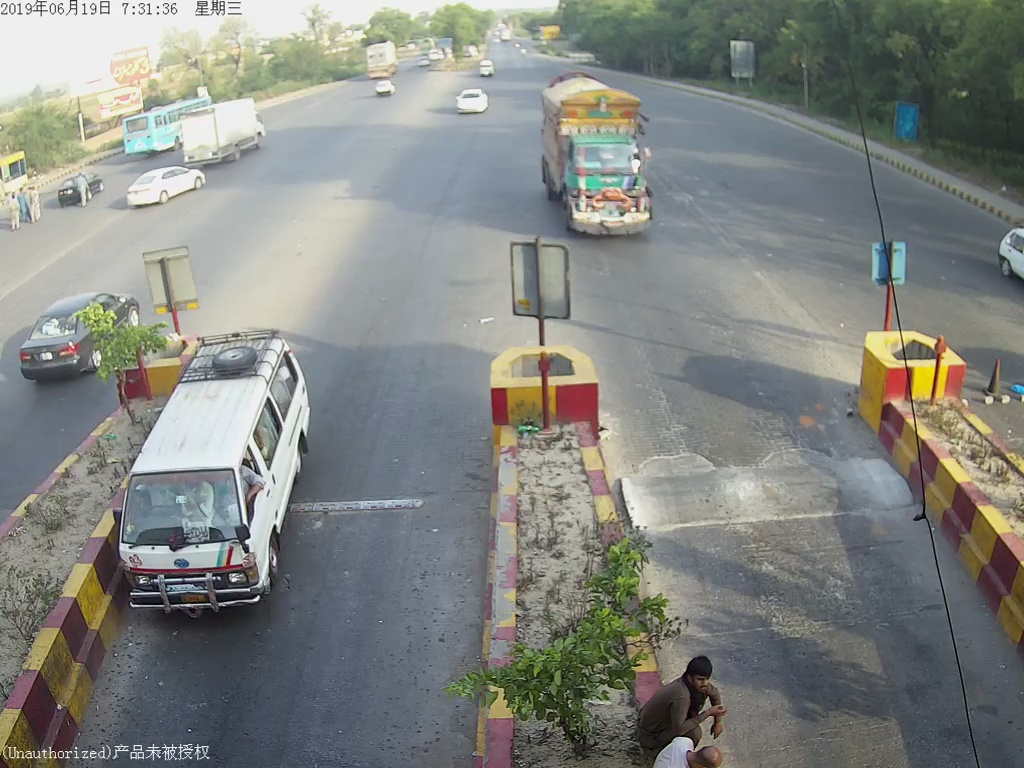Cat-1: (446, 83, 498, 125)
Cat-2: (117, 432, 292, 612)
Cat-4: (537, 79, 666, 234)
